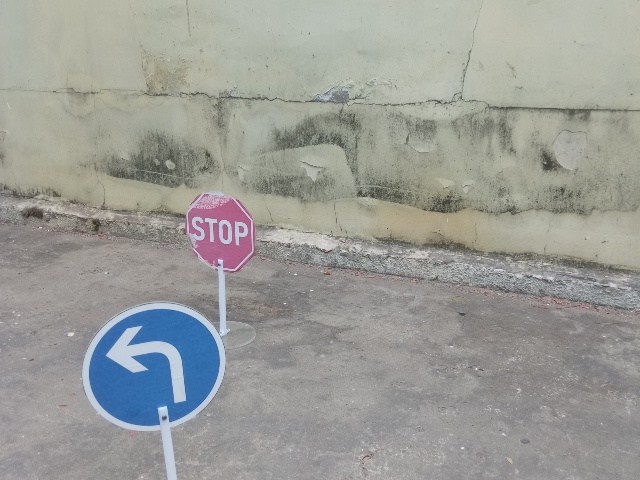Left_Sign: (81, 301, 227, 432)
Stop_Sign: (187, 191, 256, 273)
